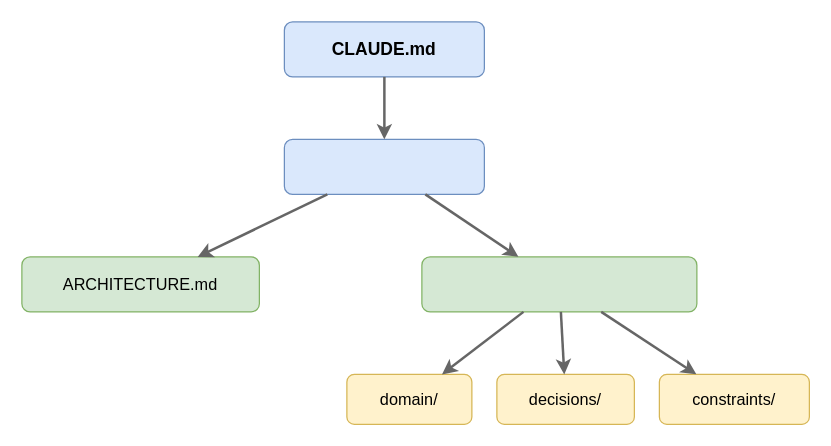
Some shapes in this 831 by 446 pixel diagram are drawn without their labels. The centre of each missing label's shape, as x and y in pixels:
".context/MANIFEST.md" goes at pixel 559 284.
"AGENTS.md" goes at pixel 383 166.
